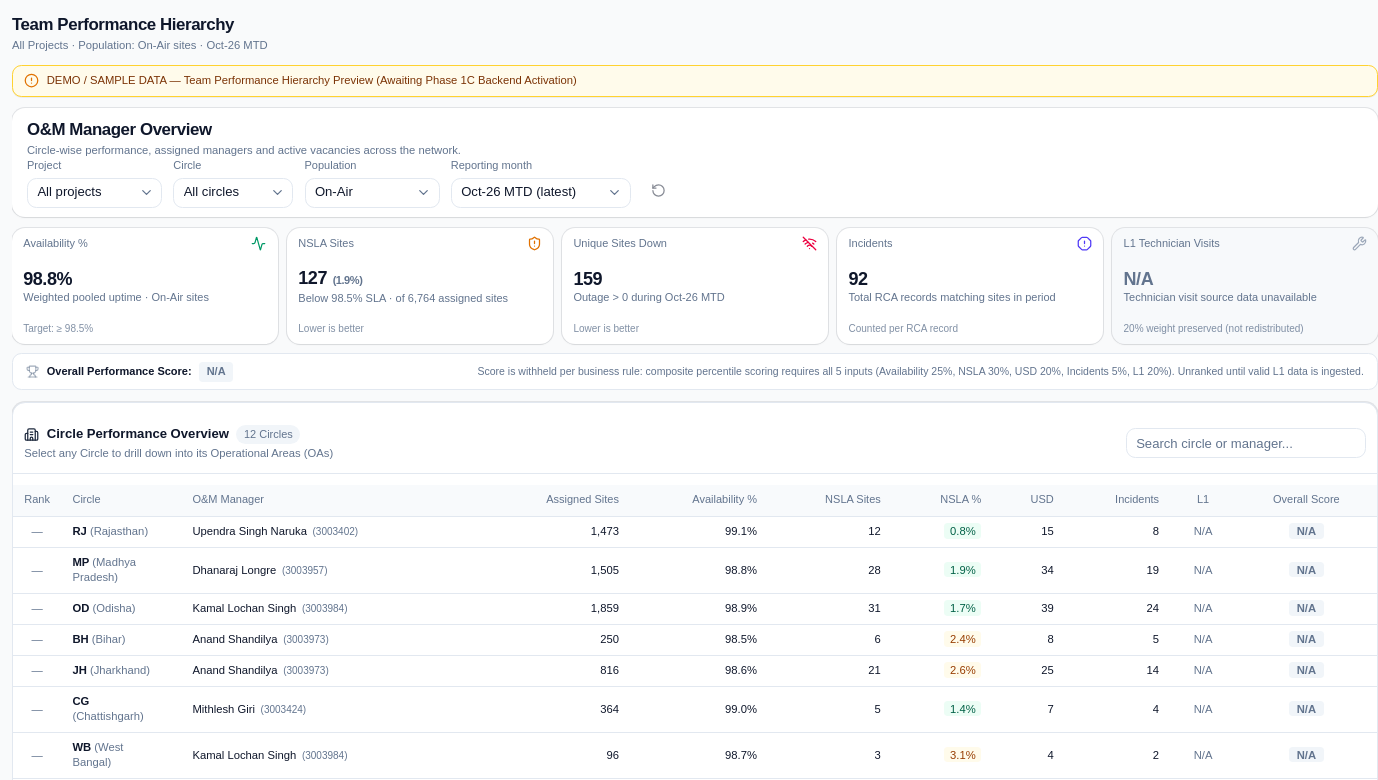
Test case: Team Performance Hierarchy Pages › Level 1: O&M Manager Overview Page › filters circles with the local search box
The width and height of the screenshot is (1378, 780).
Expected: the text "(Rajasthan)" is shown, [90,525,148,537]
Step 1. Type "Rajasthan" into the search field with placeholder "Search circle or manager..." → point(1246, 443), box [1126,428,1366,458]
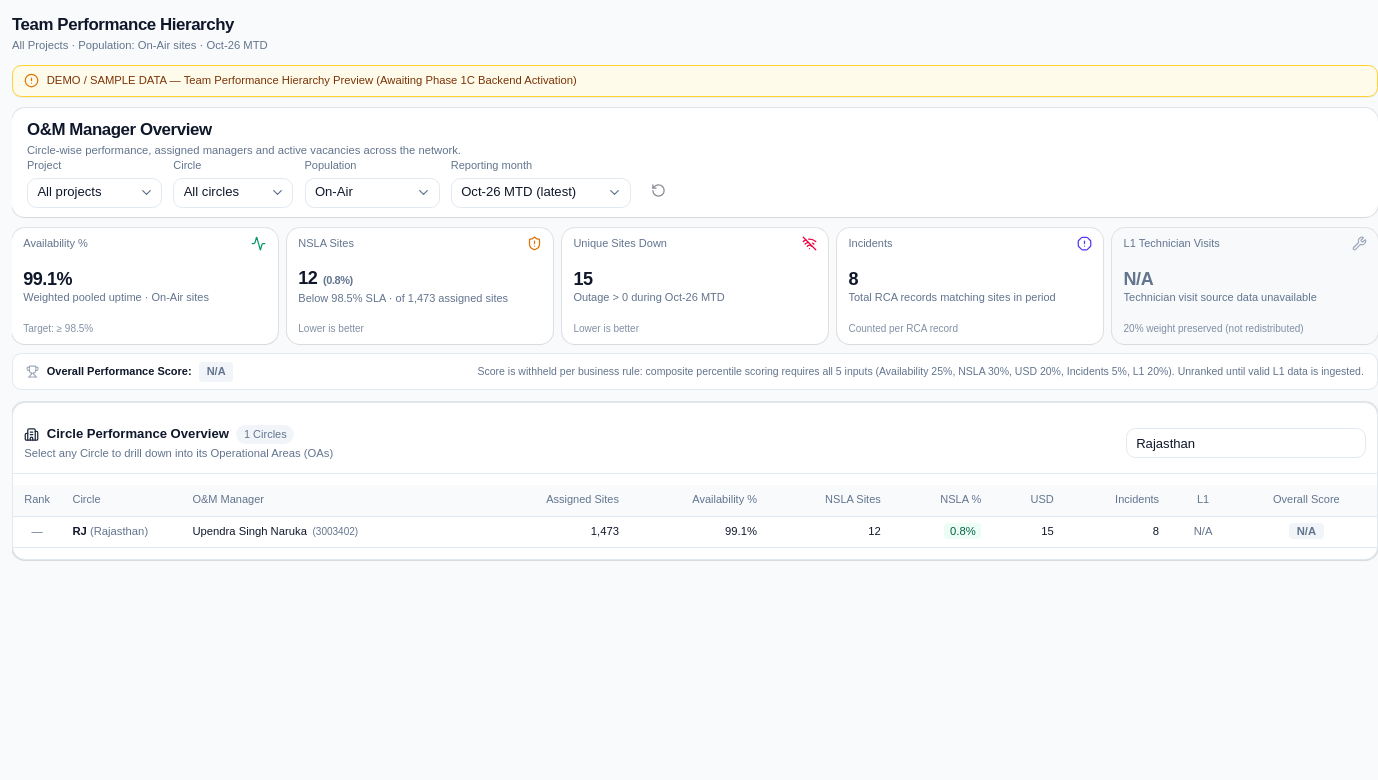
Expected: the text "(Rajasthan)" is shown, [90,525,148,537]
Expected: the link "Madhya Pradesh" is gone
